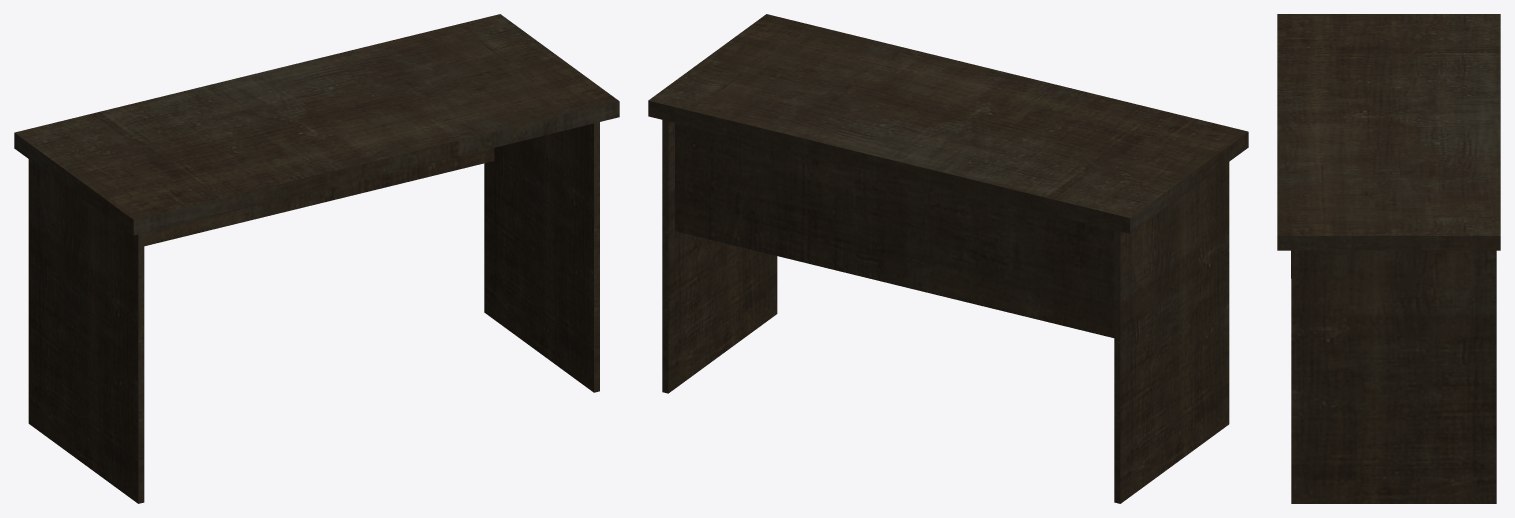
The model's file is table_large_3_4.obj.
3 renders of one model, left to right at view 1: azimuth 30°, elevation 25°; view 2: azimuth 150°, elevation 25°; view 3: azimuth 270°, elevation 25°, orthographic. The views are drawn at different scales.
Visible parts, largest first — view 1: table_large_3_4; view 2: table_large_3_4; view 3: table_large_3_4.
Boxes of the visible parts, bbox=[...] form: table_large_3_4: bbox=[14, 14, 619, 503]; table_large_3_4: bbox=[648, 14, 1248, 503]; table_large_3_4: bbox=[1277, 14, 1500, 503].
Bounding box in the file's own units: 1.6 × 0.92 × 0.68.
